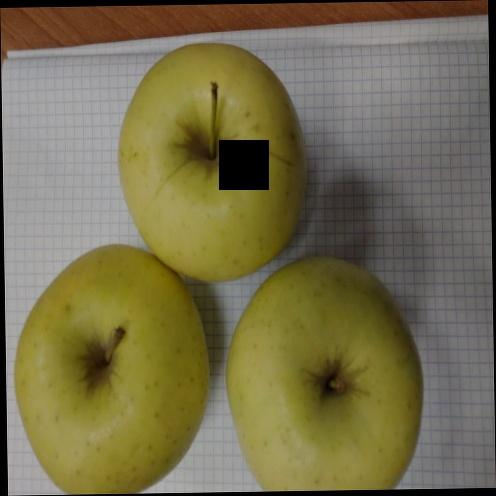green apple: (13, 243, 209, 494), (225, 257, 427, 491), (117, 41, 308, 287)
